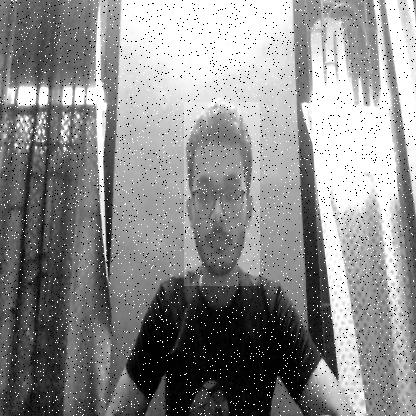Normal: (184, 102, 260, 286)
